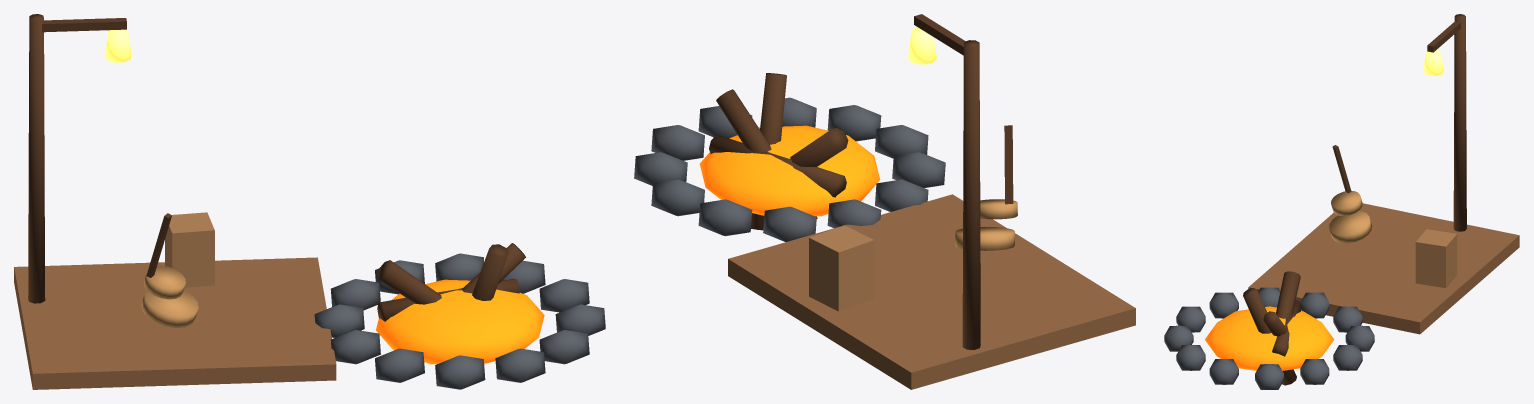
The model's file is campfire_stage.glb.
3 renders of one model, left to right at view 1: azimuth 30°, elevation 25°; view 2: azimuth 150°, elevation 25°; view 3: azimuth 270°, elevation 25°, orthographic. The views are drawn at different scales.
Visible parts, largest first — view 1: CampfireStage; view 2: CampfireStage; view 3: CampfireStage.
Boxes of the visible parts, left/top/right/bottom form: CampfireStage: left=14, top=14, right=605, bottom=389; CampfireStage: left=634, top=14, right=1135, bottom=389; CampfireStage: left=1164, top=14, right=1519, bottom=389.
Size of the model in its own units: 4.58 by 2.93 by 3.73.
